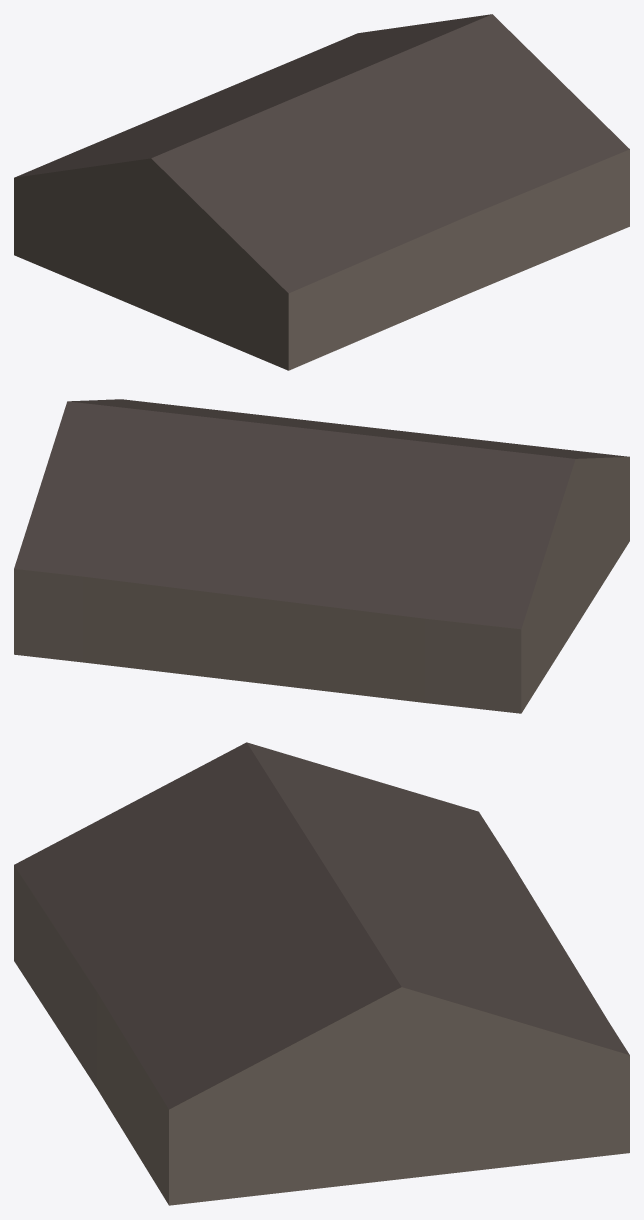
The picture shows the model from 3 angles, top to bottom: view 1: azimuth 30°, elevation 25°; view 2: azimuth 150°, elevation 25°; view 3: azimuth 270°, elevation 25°; orthographic projection. The views are drawn at different scales.
Visible parts, largest first — view 1: HP-w428179901; view 2: HP-w428179901; view 3: HP-w428179901.
Boxes of the visible parts, x1=… form: HP-w428179901: x1=14, y1=14, x2=629, y2=370; HP-w428179901: x1=14, y1=399, x2=629, y2=713; HP-w428179901: x1=14, y1=742, x2=629, y2=1205.
Size of the model in its own units: 19.95 by 6 by 17.44.
